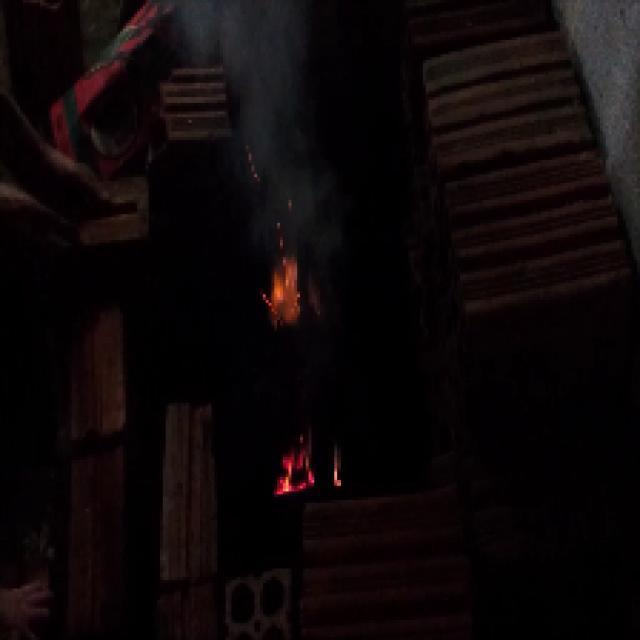Fire: (284, 436, 362, 494), (252, 250, 310, 322)
Smoke: (216, 26, 338, 242)
